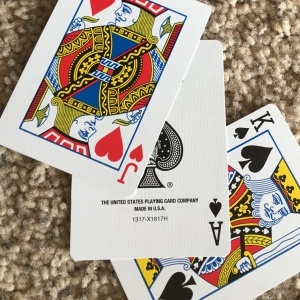card: (66, 38, 232, 262)
